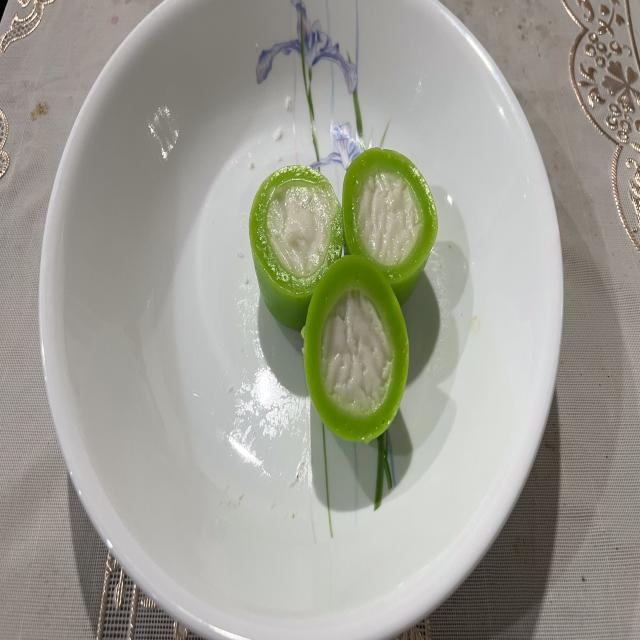nona-manis: (302, 256, 409, 498), (249, 164, 344, 329), (342, 147, 438, 304)
